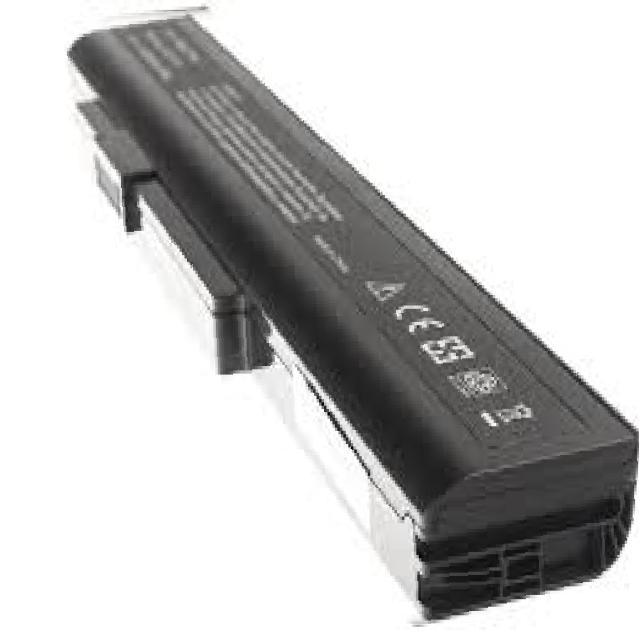Battery: (52, 8, 640, 640)
